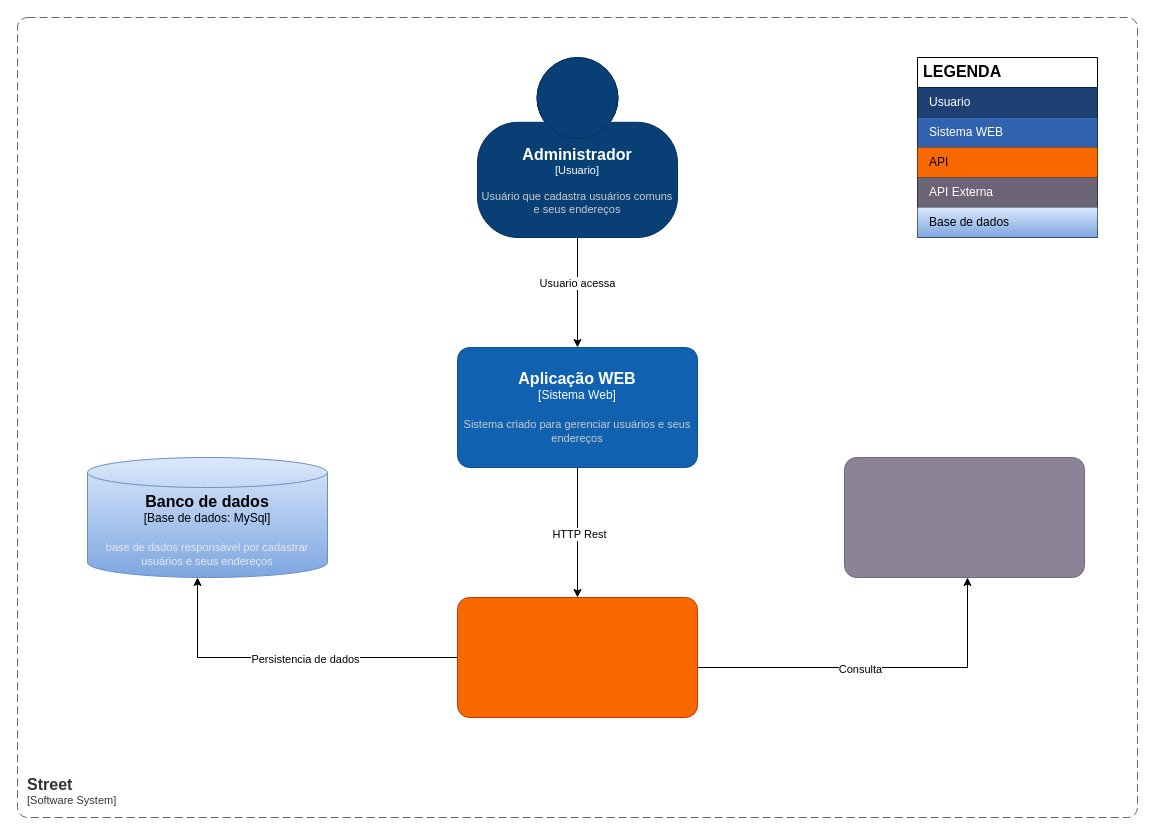
Some shapes in this 1155 by 835 pixel diagram are drawn without their labels. Here are the shapes that lost their labels. From the top down, the box of each, then its label:
(844, 456, 1084, 578): Via CEP [API Externa] Sistema para consulta de CEP
(456, 596, 698, 718): Back End [API] API com serviços para gerenciamento de usuários e seus endereços
